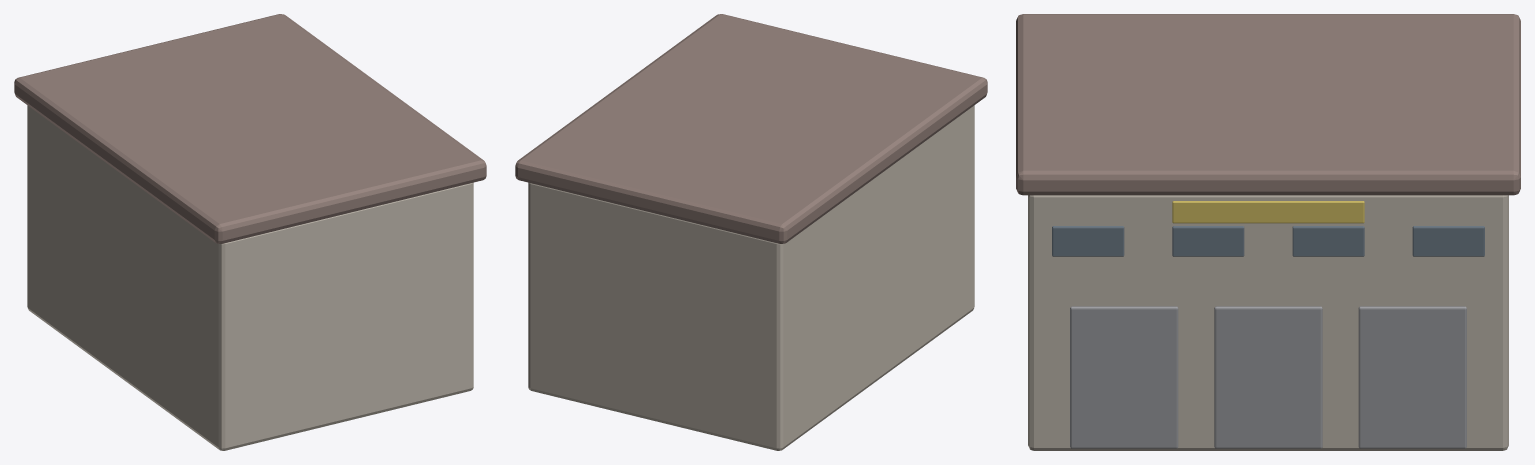
File: warehouse.glb
The picture shows the model from 3 angles, left to right: view 1: azimuth 30°, elevation 25°; view 2: azimuth 150°, elevation 25°; view 3: azimuth 270°, elevation 25°; orthographic projection. The views are drawn at different scales.
Visible parts, largest first — view 1: warehouse_Palette; view 2: warehouse_Palette; view 3: warehouse_Palette.
Part boxes in pixels (x1,y1,x2,y2): warehouse_Palette: (14,14,486,450); warehouse_Palette: (515,14,987,450); warehouse_Palette: (1016,14,1520,450).
Size of the model in its own units: 6.4 by 5.22 by 8.4.
